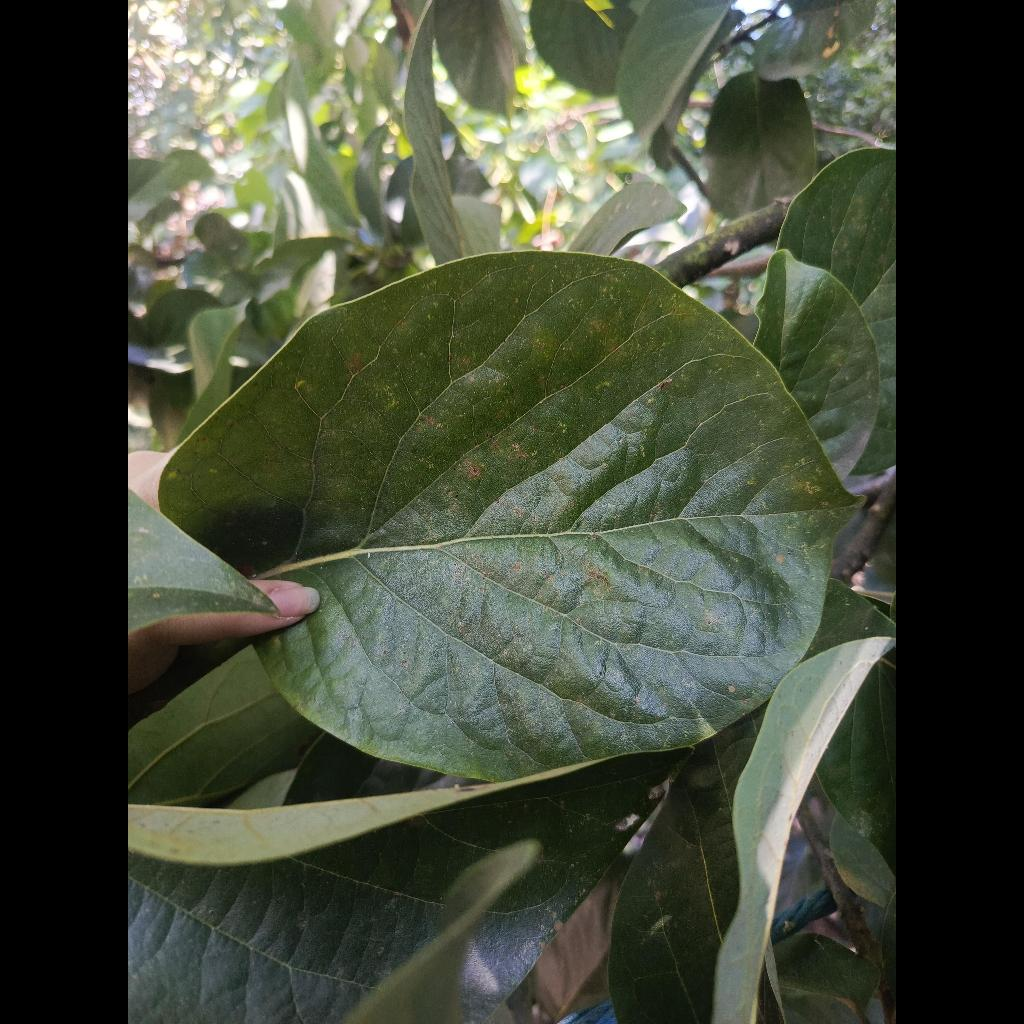antracnosis_hoja: (160, 252, 853, 780)
